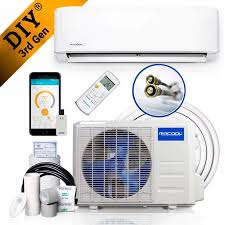ac: (54, 2, 225, 73)
